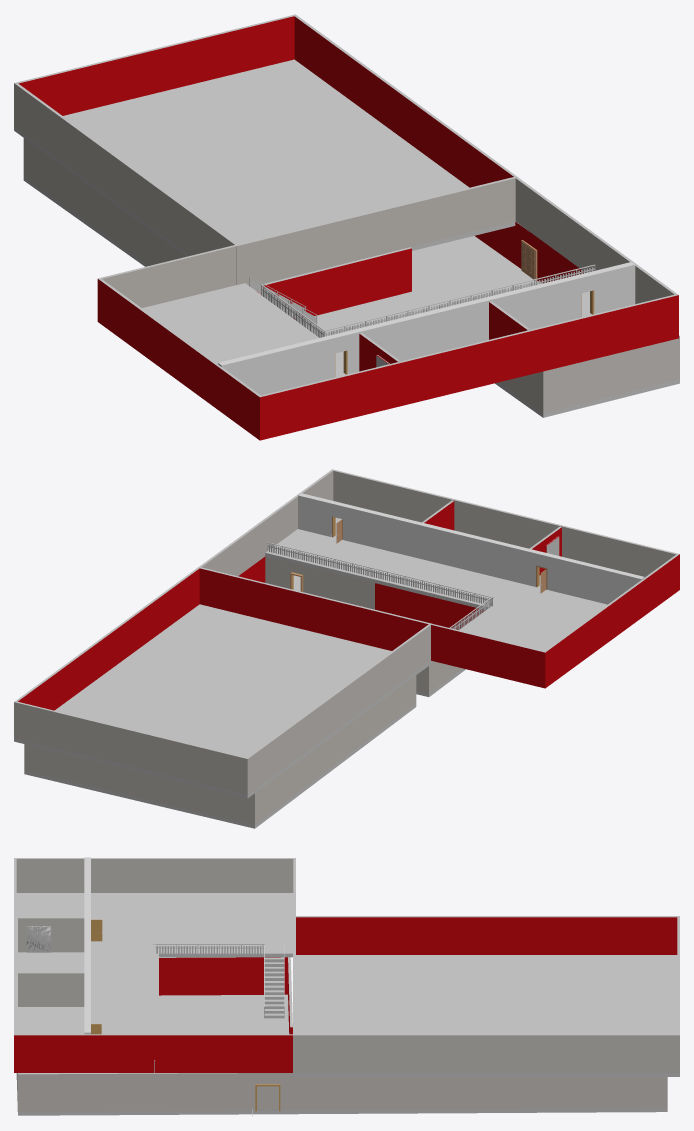
File: House_indoor._fan.fbx
The picture shows the model from 3 angles, top to bottom: view 1: azimuth 30°, elevation 25°; view 2: azimuth 150°, elevation 25°; view 3: azimuth 270°, elevation 25°; orthographic projection. The views are drawn at different scales.
Visible parts, largest first — view 1: Wall.004, Slab.001, Wall.005, Wall, Cube, Slab, Slab.002, Fence.001, Wall.007, Wall.008, Fence.002, Stair; view 2: Wall.005, Slab.001, Wall.004, Wall, Slab.002, Cube, Wall.003, Slab, Fence.001, Wall.007; view 3: Slab.001, Wall.004, Wall, Slab.002, Wall.005, Slab, Wall.007, Wall.008, Stair, Cube, Fence.002, hole.
Boxes of the visible parts, left/top/right/bottom form: Wall.004: left=14, top=14, right=517, bottom=285; Slab.001: left=14, top=59, right=515, bottom=286; Wall.005: left=97, top=176, right=678, bottom=440; Wall: left=23, top=70, right=679, bottom=413; Cube: left=218, top=262, right=635, bottom=395; Slab: left=23, top=176, right=679, bottom=417; Slab.002: left=142, top=283, right=594, bottom=377; Fence.001: left=322, top=264, right=595, bottom=336; Wall.007: left=489, top=301, right=529, bottom=339; Wall.008: left=359, top=333, right=400, bottom=371; Fence.002: left=261, top=284, right=325, bottom=337; Stair: left=249, top=276, right=318, bottom=327; Wall.005: left=198, top=469, right=679, bottom=688; Slab.001: left=14, top=604, right=432, bottom=798; Wall.004: left=14, top=567, right=432, bottom=794; Wall: left=24, top=556, right=484, bottom=824; Slab.002: left=265, top=517, right=607, bottom=650; Cube: left=298, top=493, right=644, bottom=604; Wall.003: left=265, top=556, right=374, bottom=609; Slab: left=24, top=575, right=465, bottom=828; Fence.001: left=267, top=542, right=493, bottom=606; Wall.007: left=422, top=500, right=454, bottom=530; Slab.001: left=293, top=955, right=679, bottom=1076; Wall.004: left=293, top=916, right=679, bottom=1072; Wall: left=16, top=957, right=667, bottom=1111; Slab.002: left=16, top=893, right=293, bottom=1034; Wall.005: left=14, top=858, right=295, bottom=1072; Slab: left=16, top=994, right=667, bottom=1115; Wall.007: left=18, top=972, right=84, bottom=1006; Wall.008: left=18, top=917, right=84, bottom=952; Stair: left=264, top=943, right=284, bottom=1018; Cube: left=84, top=857, right=90, bottom=1034; Fence.002: left=153, top=944, right=264, bottom=957; hole: left=26, top=926, right=51, bottom=952.
Size of the model in its own units: 3141 by 641 by 4818.
